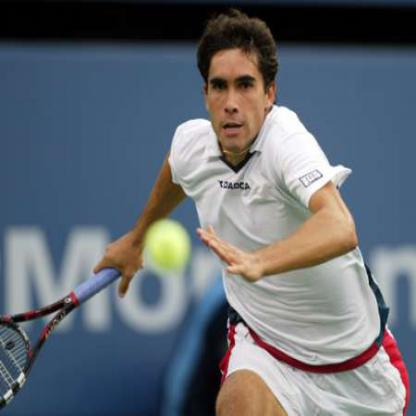face: (206, 26, 269, 154)
